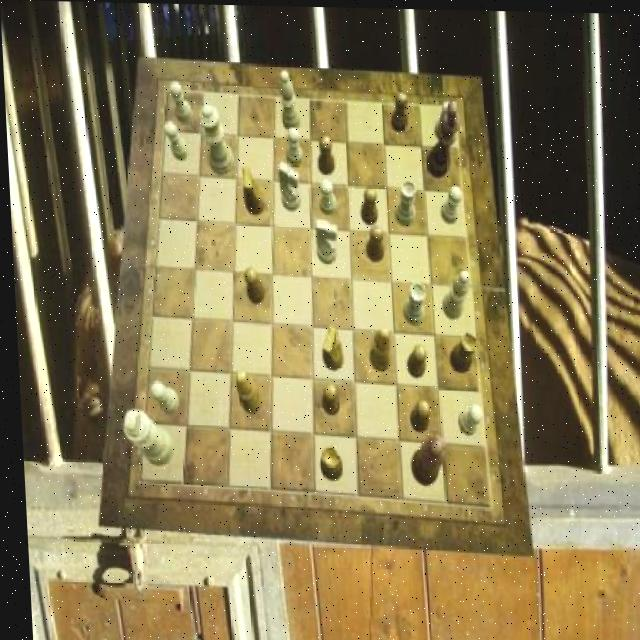bishop: (230, 370, 258, 413), (364, 324, 389, 370)
black-bishop: (422, 98, 461, 176)
black-king: (240, 166, 263, 215), (316, 324, 339, 369)
black-knight: (240, 266, 261, 304), (389, 91, 408, 132), (401, 342, 423, 377), (314, 133, 333, 173), (356, 186, 375, 225), (405, 397, 426, 432), (362, 225, 381, 261), (318, 381, 336, 415)
black-pawn: (403, 433, 443, 486)
black-queen: (444, 331, 475, 373), (313, 444, 338, 480)
black-rook: (437, 267, 468, 319), (277, 71, 299, 131)
white-bishop: (118, 410, 170, 467)
white-king: (276, 162, 299, 211), (312, 218, 337, 263)
white-knight: (168, 81, 193, 123), (146, 381, 175, 415), (162, 121, 186, 160), (432, 100, 455, 140), (437, 185, 461, 223), (453, 401, 479, 434), (316, 178, 335, 214), (284, 127, 302, 165)
white-pawn: (197, 103, 233, 175)
white-queen: (390, 179, 415, 226), (398, 281, 424, 323)
